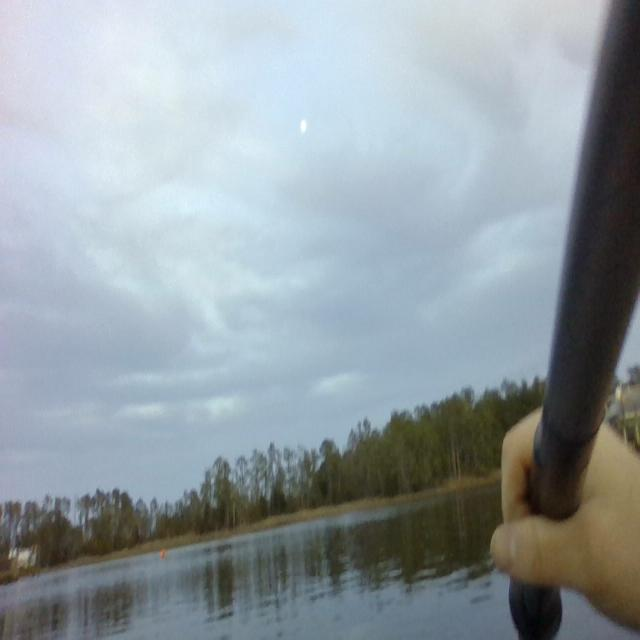Buoy: (158, 546, 166, 559)
